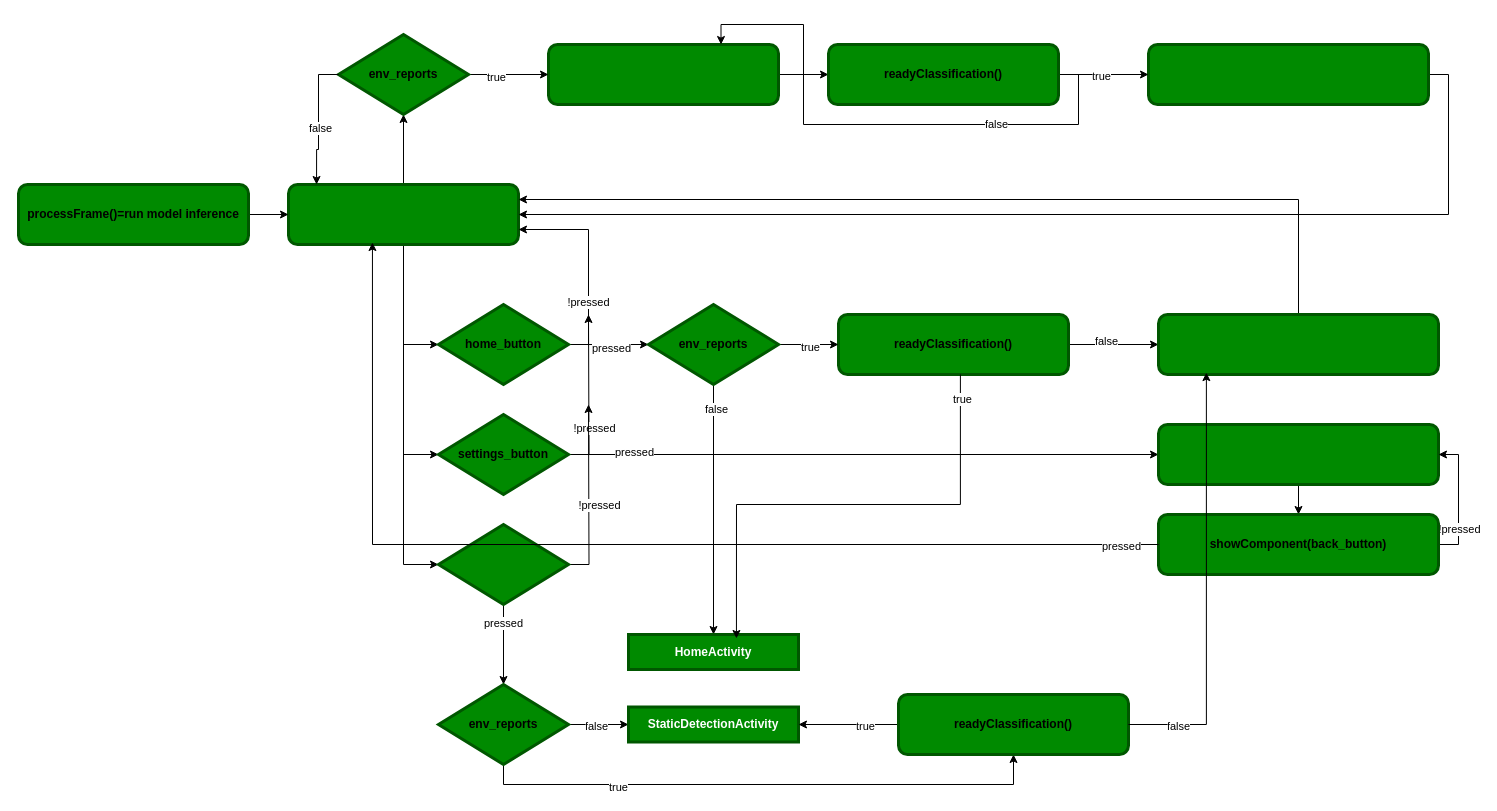
Image size: 1497x811. Some labels were removed from this diagram. The shapes that lost their labels are listed below. From the top down, each one's box as (x1, y1, x2, y2) in pixels, then its label:
(546, 42, 780, 106): makeClassification()
(1146, 42, 1430, 106): showComponent(succesful_classification)
(286, 182, 520, 246): showComponent(labeled_input), showComponent(nav_buttons)
(1156, 312, 1440, 376): showComponent(wait_classification)
(1156, 422, 1440, 486): showComponent(selector_size)
(436, 522, 570, 606): camera_button
